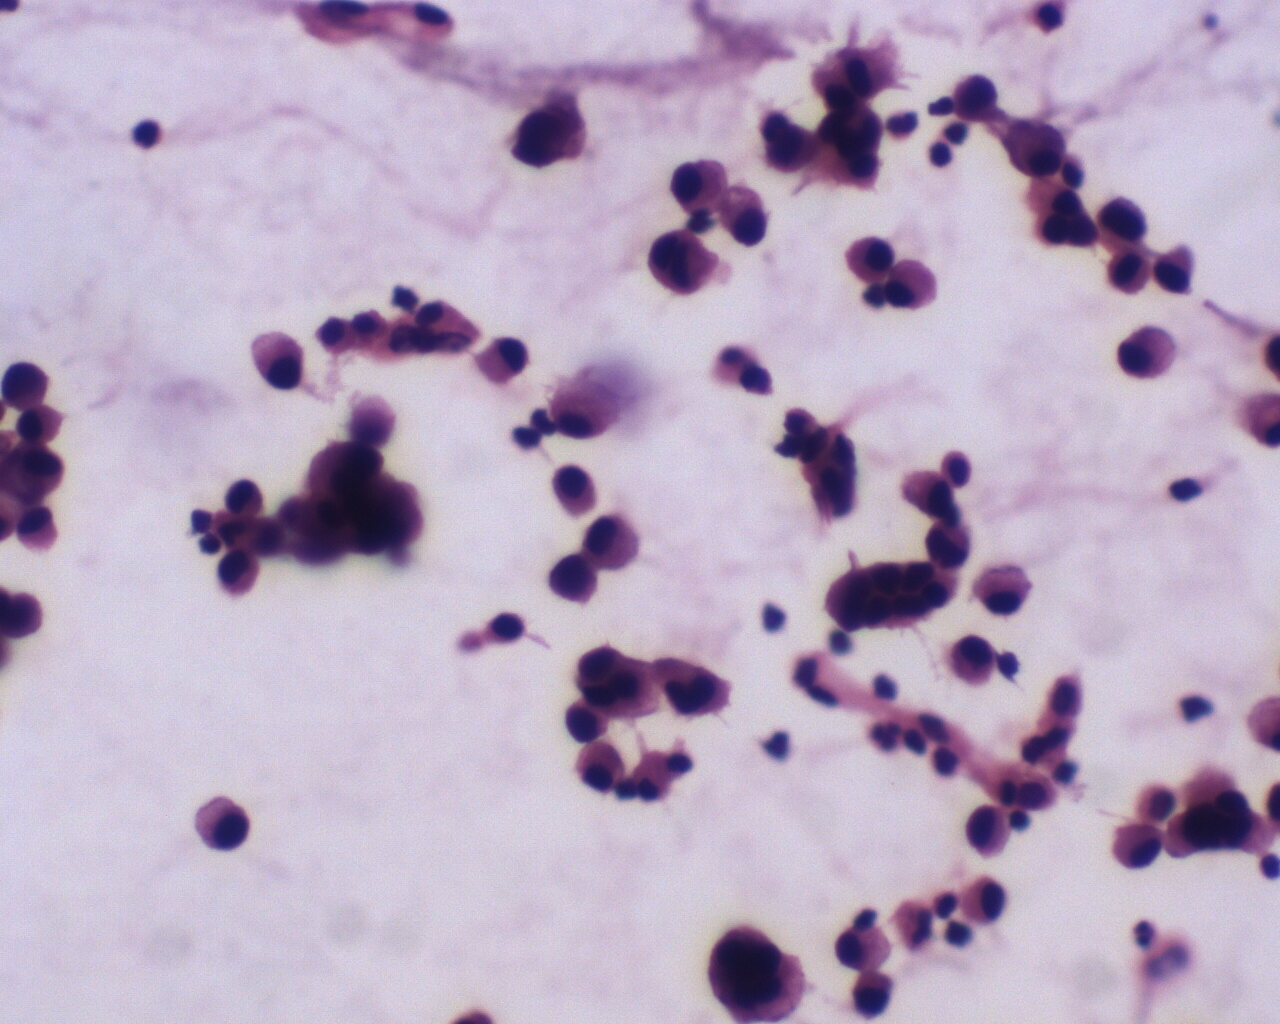ab: (701, 918, 812, 1024), (646, 226, 722, 297)
meso: (245, 326, 316, 396), (1115, 319, 1187, 387), (668, 152, 732, 217), (190, 793, 255, 854), (972, 562, 1037, 618), (884, 255, 942, 315), (832, 922, 897, 975), (550, 458, 602, 520), (1108, 817, 1165, 872), (844, 227, 899, 282), (962, 871, 1013, 927)
